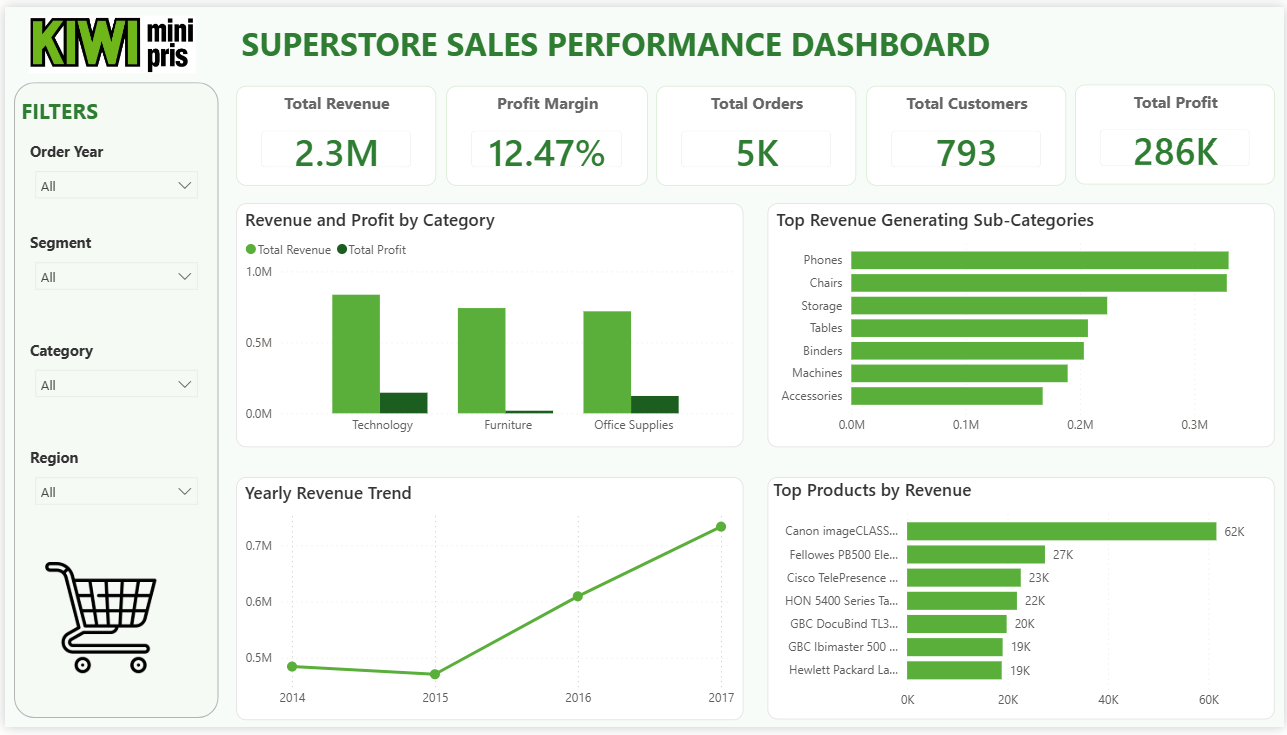

The page's visual inventory and layout, read from the dashboard file:
{"tool":"powerbi","page":{"name":"Executive Overview","canvas":[1280,720],"ordinal":0},"visuals":[{"type":"shape","box":[0,66.2,222.5,653.8],"z":0},{"type":"cardVisual","title":"Total Customers","fields":{"Data":["superstore_db superstore_sales.Total Customers"]},"box":[860.6,78.8,200,100],"z":1000},{"type":"cardVisual","title":"Total Orders","fields":{"Data":["superstore_db superstore_sales.Total Orders"]},"box":[651.2,78.8,200,100],"z":2000},{"type":"cardVisual","title":"Profit Margin","fields":{"Data":["superstore_db superstore_sales.Profit Margin %"]},"box":[440.6,78.8,201.2,100],"z":3000},{"type":"cardVisual","title":"Total Revenue","fields":{"Data":["superstore_db superstore_sales.Total Revenue"]},"box":[231.2,78.8,200,100],"z":4000},{"type":"cardVisual","title":"Total Profit","fields":{"Data":["superstore_db superstore_sales.Total Profit"]},"box":[1070,77.5,200,100],"z":5000},{"type":"clusteredColumnChart","title":"Revenue and Profit by Category","fields":{"Category":["superstore_db superstore_sales.category"],"Y":["superstore_db superstore_sales.Total Revenue","superstore_db superstore_sales.Total Profit"]},"box":[231.4,195.7,507.1,244.3],"z":6000},{"type":"barChart","title":"Top Revenue Generating Sub-Categories","fields":{"Category":["superstore_db superstore_sales.sub_category"],"Y":["superstore_db superstore_sales.Total Revenue"]},"box":[762.9,195.7,507.1,244.3],"z":7000},{"type":"barChart","title":"Top Products by Revenue","fields":{"Category":["superstore_db superstore_sales.product_name"],"Y":["superstore_db superstore_sales.Total Revenue"]},"box":[762.5,470,507.5,242.5],"z":8000},{"type":"lineChart","title":"Yearly Revenue Trend","fields":{"Category":["superstore_db superstore_sales.order_date.Variation.Date Hierarchy.Year","superstore_db superstore_sales.order_date.Variation.Date Hierarchy.Month"],"Y":["superstore_db superstore_sales.Total Revenue"]},"box":[231.2,470,507,243],"z":9000},{"type":"slicer","title":"Order Year","fields":{"Values":["superstore_db superstore_sales.order_year"]},"box":[20,133.8,182.5,81.2],"z":10000},{"type":"slicer","title":"Segment","fields":{"Values":["superstore_db superstore_sales.segment"]},"box":[20,225,182.5,81],"z":11000},{"type":"slicer","title":"Category","fields":{"Values":["superstore_db superstore_sales.category"]},"box":[20,332.5,182.5,81.2],"z":12000},{"type":"slicer","title":"Region","fields":{"Values":["superstore_db superstore_sales.region"]},"box":[20,440,182.5,81.2],"z":13000},{"type":"textbox","box":[231.2,10,762.5,56.2],"z":14000},{"type":"textbox","box":[11.2,83.8,175,43.8],"z":15000},{"type":"image","box":[5,555,181.2,111.2],"z":15001},{"type":"image","box":[0,9.1,214.5,57.3],"z":15002}]}

Visuals, with their boxes in screenshot pixels (x1, y1, x2, y2), scaled from the page's 1280x720 canvas onto the 1287x735 screenshot:
shape: rect(0, 68, 224, 734)
"Total Customers" cardVisual: rect(865, 80, 1066, 183)
"Total Orders" cardVisual: rect(655, 80, 856, 183)
"Profit Margin" cardVisual: rect(443, 80, 645, 183)
"Total Revenue" cardVisual: rect(232, 80, 434, 183)
"Total Profit" cardVisual: rect(1076, 79, 1277, 181)
"Revenue and Profit by Category" clusteredColumnChart: rect(233, 200, 743, 449)
"Top Revenue Generating Sub-Categories" barChart: rect(767, 200, 1277, 449)
"Top Products by Revenue" barChart: rect(767, 480, 1277, 727)
"Yearly Revenue Trend" lineChart: rect(232, 480, 742, 728)
"Order Year" slicer: rect(20, 137, 204, 219)
"Segment" slicer: rect(20, 230, 204, 312)
"Category" slicer: rect(20, 339, 204, 422)
"Region" slicer: rect(20, 449, 204, 532)
textbox: rect(232, 10, 999, 68)
textbox: rect(11, 86, 187, 130)
image: rect(5, 567, 187, 680)
image: rect(0, 9, 216, 68)
